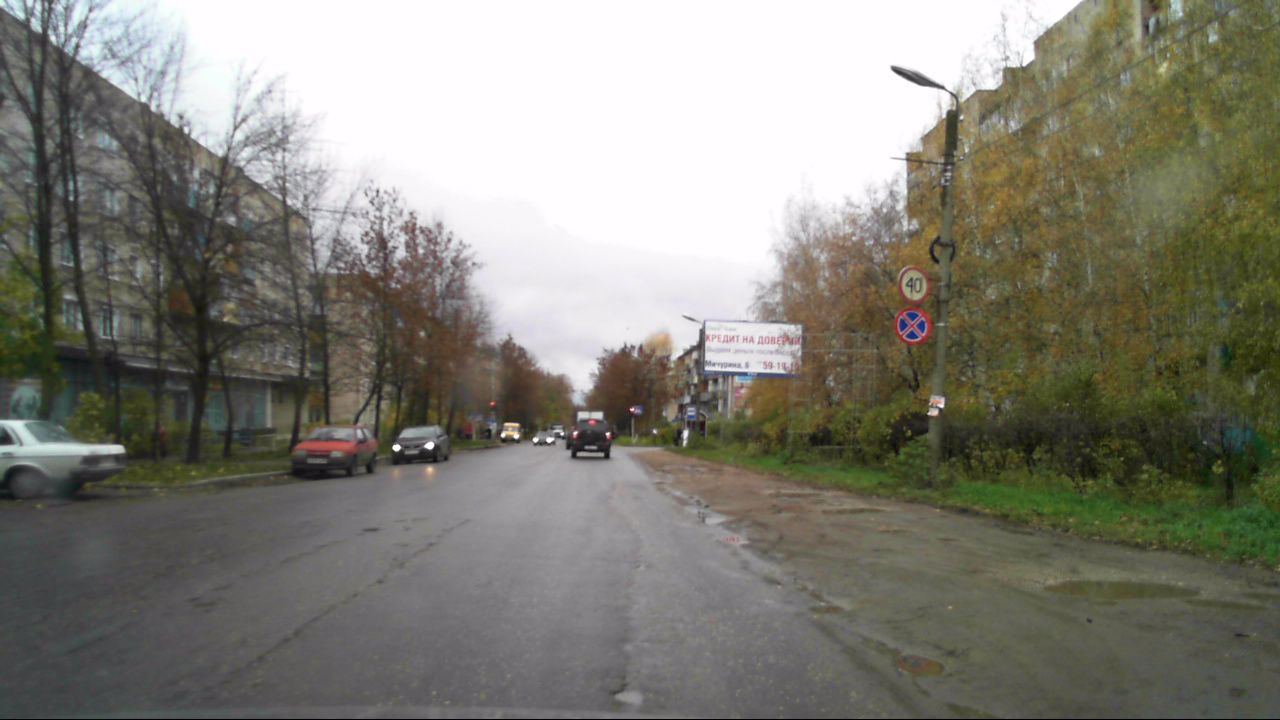No Parking: (892, 305, 932, 345)
speed_warning_40: (897, 265, 931, 304)
